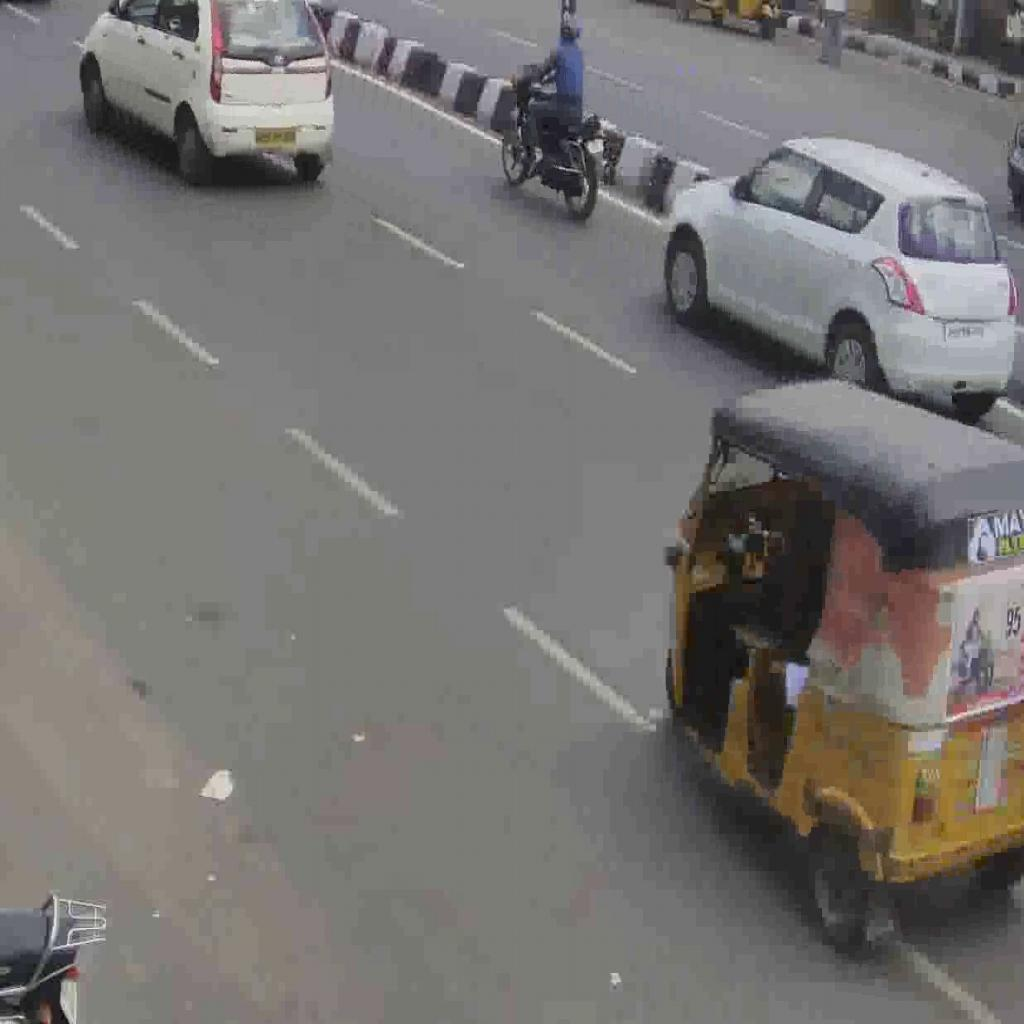bike: (501, 60, 611, 222)
lisc: (586, 137, 604, 154)
rider: (510, 9, 585, 179)
